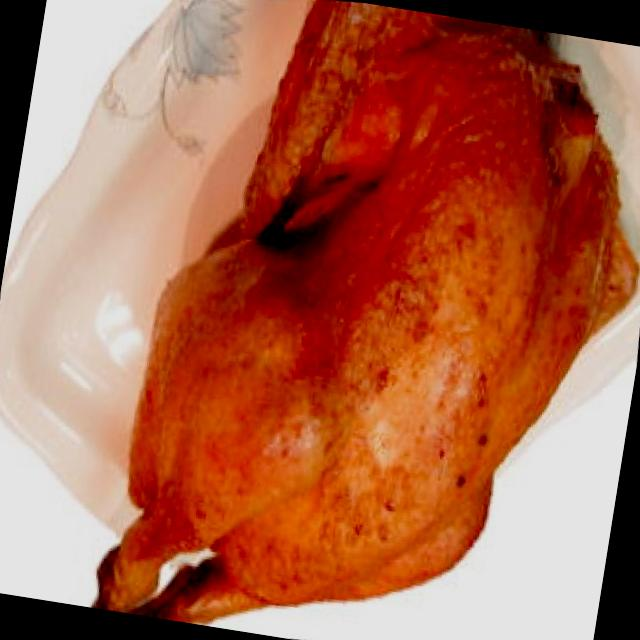Chicken: (47, 0, 640, 640)
